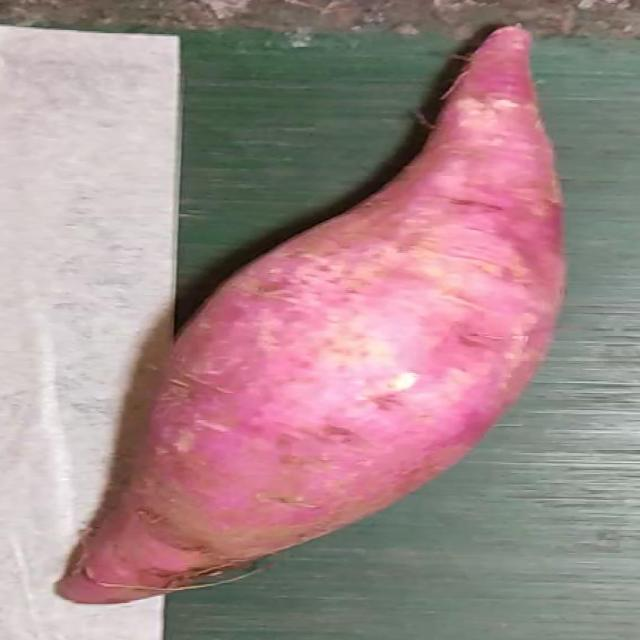Sweet Potato: (54, 25, 567, 608)
